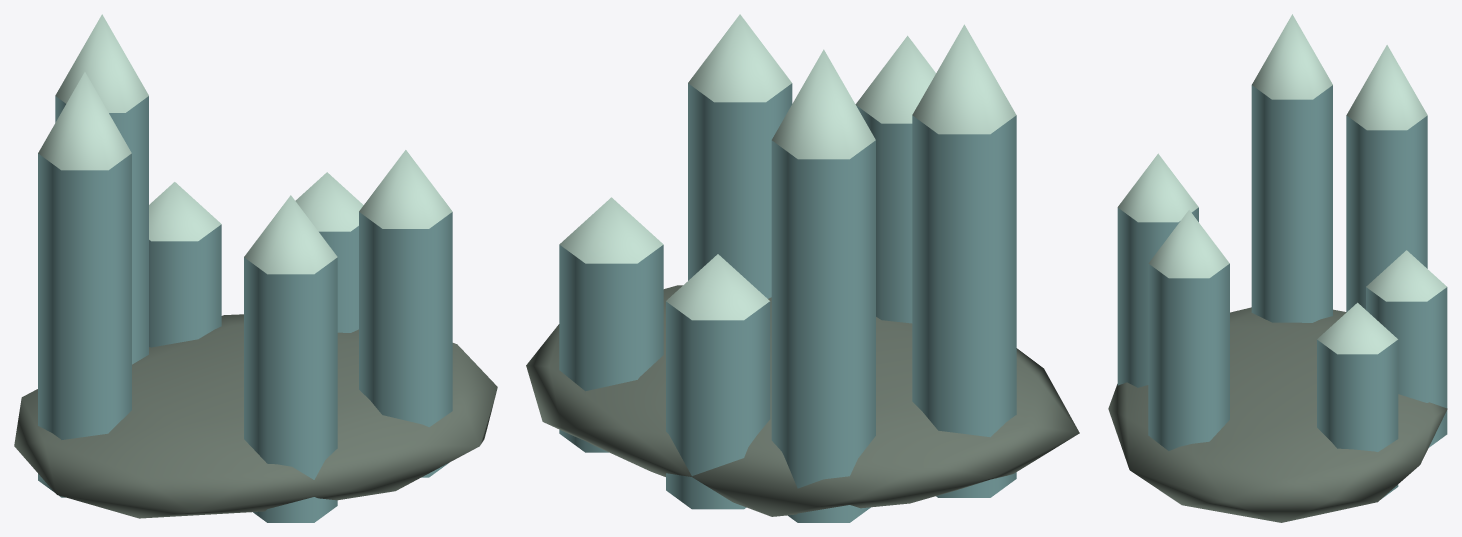
File: crystals.glb
3 renders of one model, left to right at view 1: azimuth 30°, elevation 25°; view 2: azimuth 150°, elevation 25°; view 3: azimuth 270°, elevation 25°, orthographic. The views are drawn at different scales.
Visible parts, largest first — view 1: crystals_crystal, crystals_stone_dark, crystals_crystal_light; view 2: crystals_crystal, crystals_stone_dark, crystals_crystal_light; view 3: crystals_crystal, crystals_stone_dark, crystals_crystal_light.
Boxes of the visible parts, bbox=[...] form: crystals_crystal: bbox=[38, 96, 452, 522]; crystals_stone_dark: bbox=[14, 314, 497, 518]; crystals_crystal_light: bbox=[38, 14, 452, 274]; crystals_crystal: bbox=[559, 83, 1016, 522]; crystals_stone_dark: bbox=[526, 285, 1079, 516]; crystals_crystal_light: bbox=[559, 14, 1016, 320]; crystals_crystal: bbox=[1117, 85, 1447, 498]; crystals_stone_dark: bbox=[1108, 307, 1447, 522]; crystals_crystal_light: bbox=[1117, 14, 1446, 354].
Size of the model in its own units: 1.41 by 1.32 by 1.08.
